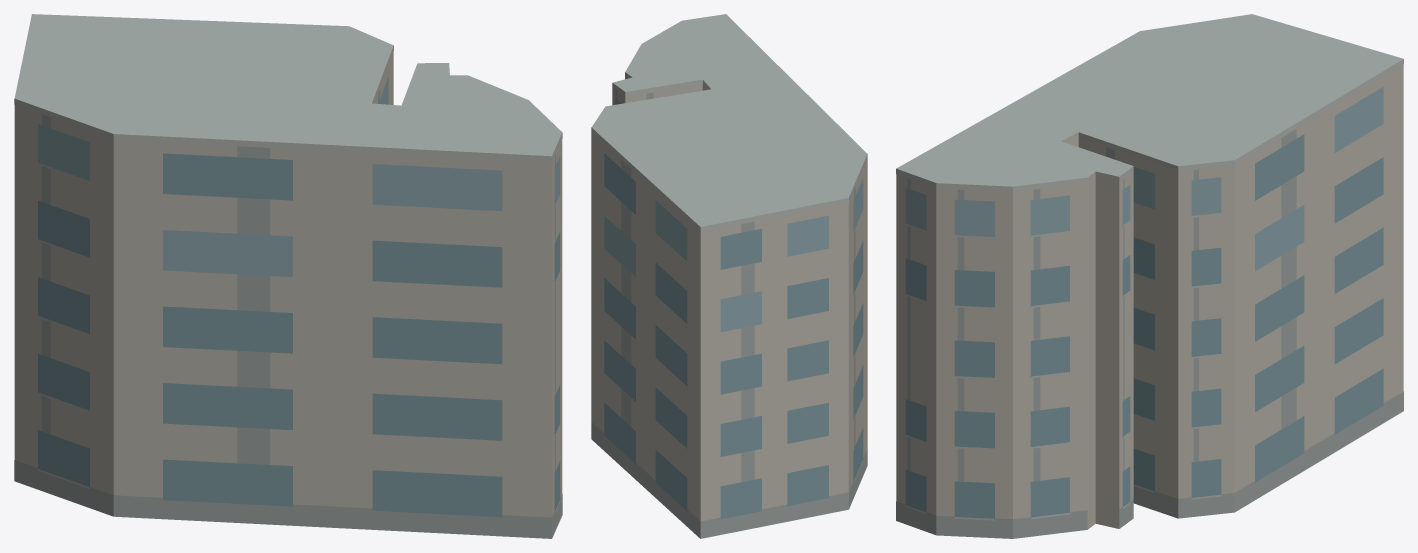
Rendered from residential-d9b3d1b2-f869-42fe-a473-d3f04fd4374d.glb.
The picture shows the model from 3 angles, left to right: view 1: azimuth 30°, elevation 25°; view 2: azimuth 150°, elevation 25°; view 3: azimuth 270°, elevation 25°; orthographic projection. The views are drawn at different scales.
Visible parts, largest first — view 1: residential-d9b3d1b2-f869-42fe-a473-d3f04fd4374d.tmp; view 2: residential-d9b3d1b2-f869-42fe-a473-d3f04fd4374d.tmp; view 3: residential-d9b3d1b2-f869-42fe-a473-d3f04fd4374d.tmp.
Part boxes in pixels (x1,y1,x2,y2): residential-d9b3d1b2-f869-42fe-a473-d3f04fd4374d.tmp: (14,14,562,538); residential-d9b3d1b2-f869-42fe-a473-d3f04fd4374d.tmp: (591,14,867,538); residential-d9b3d1b2-f869-42fe-a473-d3f04fd4374d.tmp: (896,14,1403,538).
Bounding box in the file's own units: 16.03 × 15.25 × 19.92.
